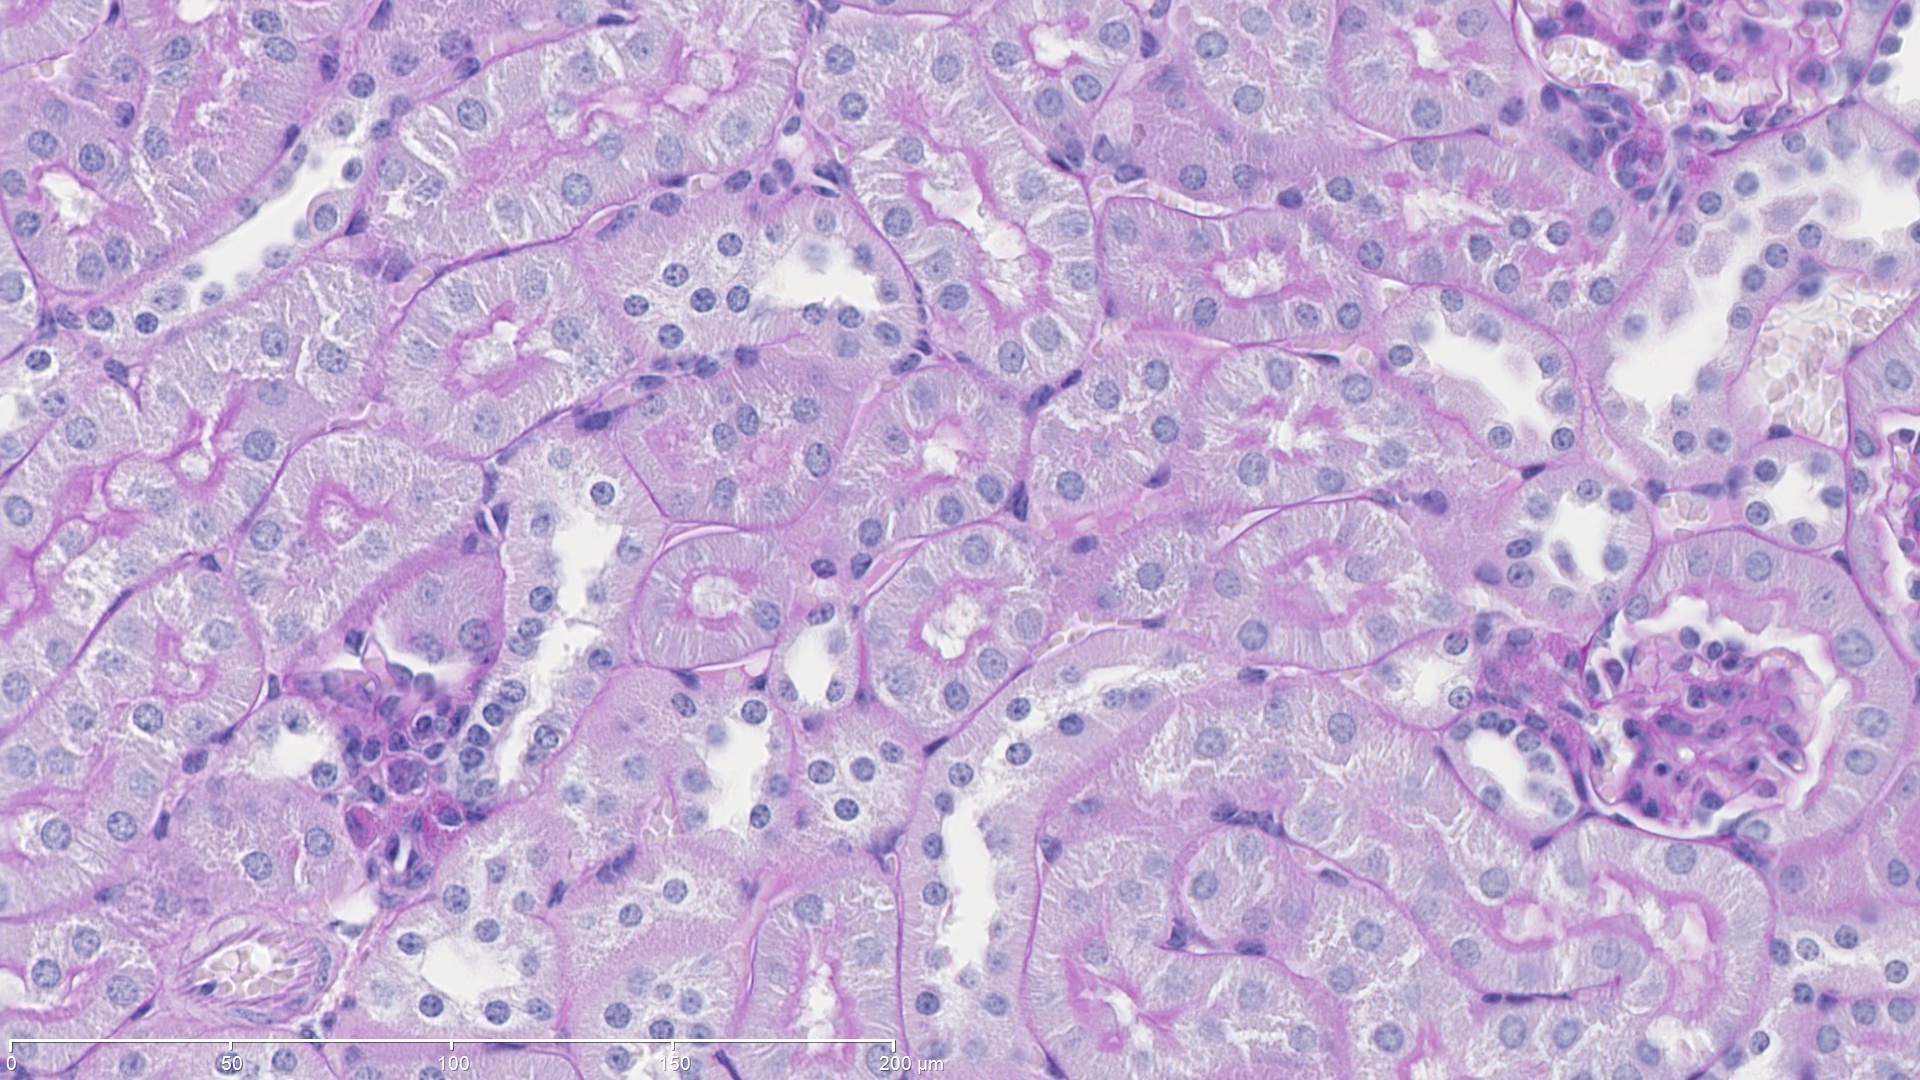Glomeruli: (1534, 596, 1857, 849), (280, 629, 537, 909), (1526, 7, 1865, 135)
